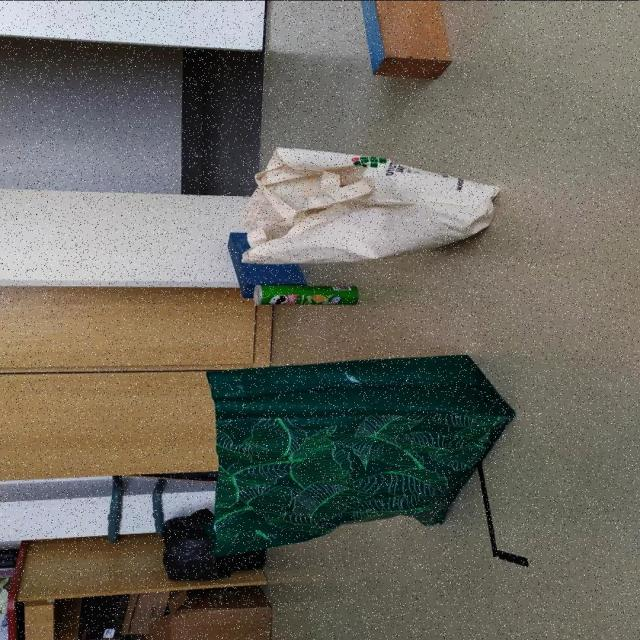Bag: (200, 352, 517, 558), (235, 146, 503, 265)
Pringles: (254, 282, 360, 306)
